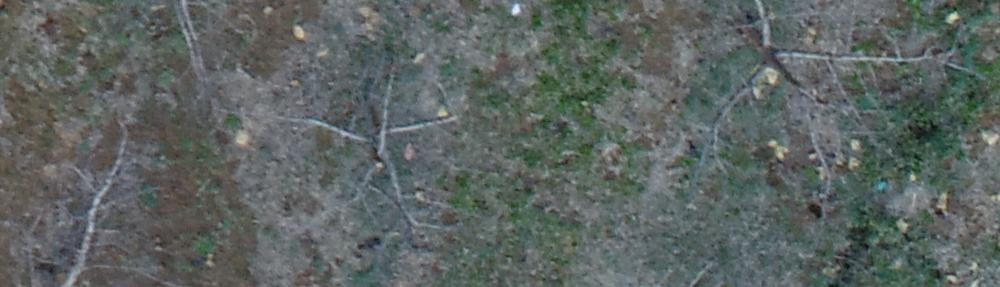apple: (688, 10, 976, 191), (268, 46, 493, 244)
